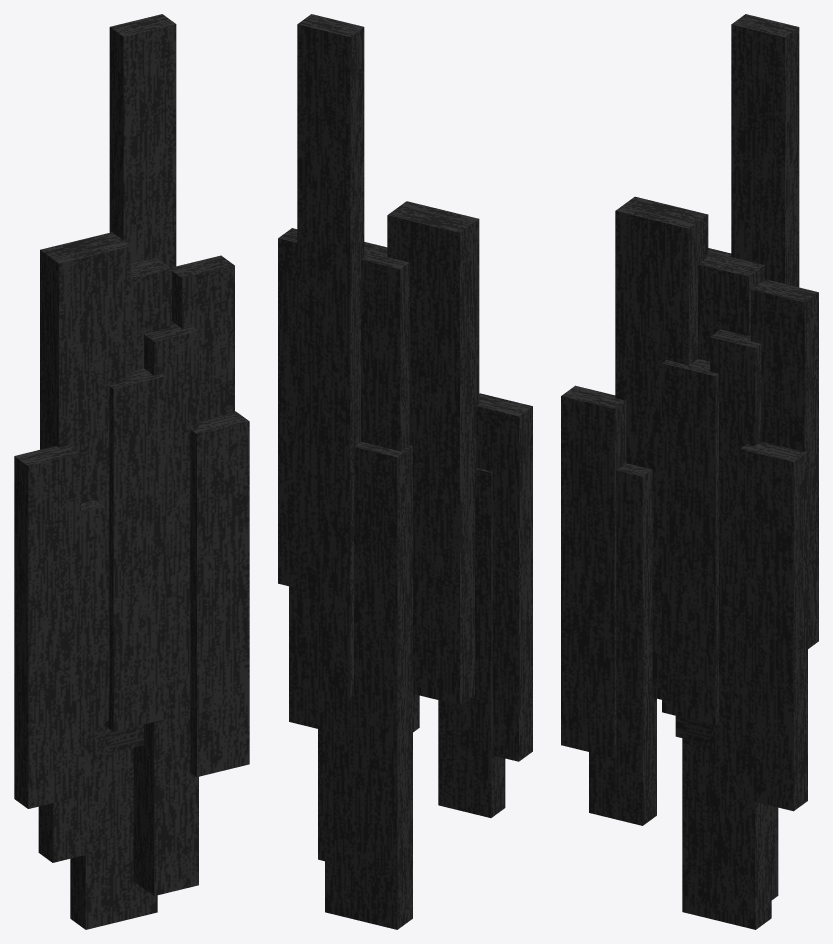
File: rods1.fbx
3 views of the same model, side by side, from view 1: azimuth 30°, elevation 25°; view 2: azimuth 150°, elevation 25°; view 3: azimuth 330°, elevation 25° (orthographic).
Parts seen in each view (by area): view 1: Cube.031; view 2: Cube.031; view 3: Cube.031.
Part boxes in pixels (x1=…): Cube.031: x1=14, y1=14, x2=249, y2=929; Cube.031: x1=278, y1=14, x2=532, y2=929; Cube.031: x1=561, y1=14, x2=818, y2=929.
Bounding box in the file's own units: 1362 × 5086 × 523.
